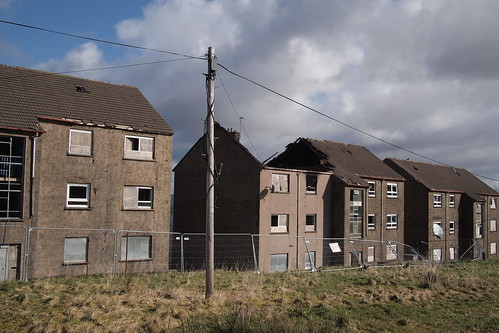bridge: (176, 125, 404, 264)
building: (1, 77, 176, 271), (390, 157, 499, 258)
grass: (1, 274, 495, 333)
sky: (1, 2, 499, 159)
